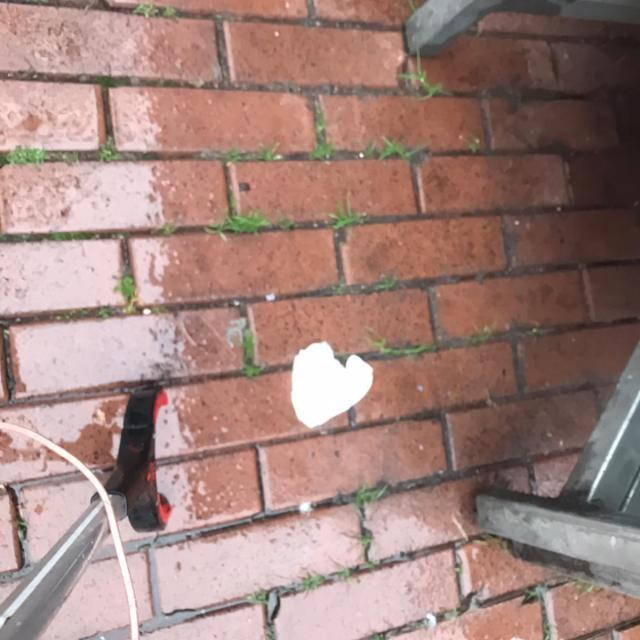Paper: (290, 342, 376, 428)
